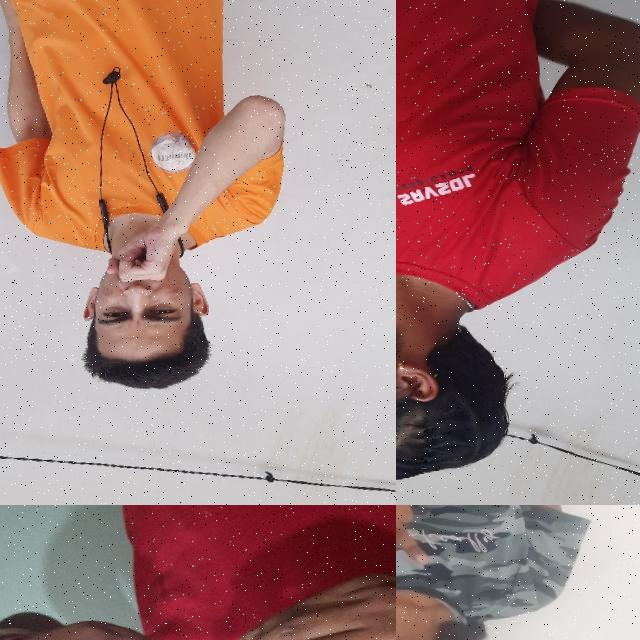Fist Mouth: (67, 205, 227, 401), (396, 279, 490, 503)
Five Fathers: (0, 553, 396, 640)
